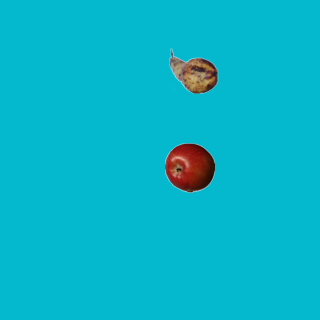Apple Braeburn: (164, 142, 214, 192)
Pear Abate: (168, 46, 218, 96)
